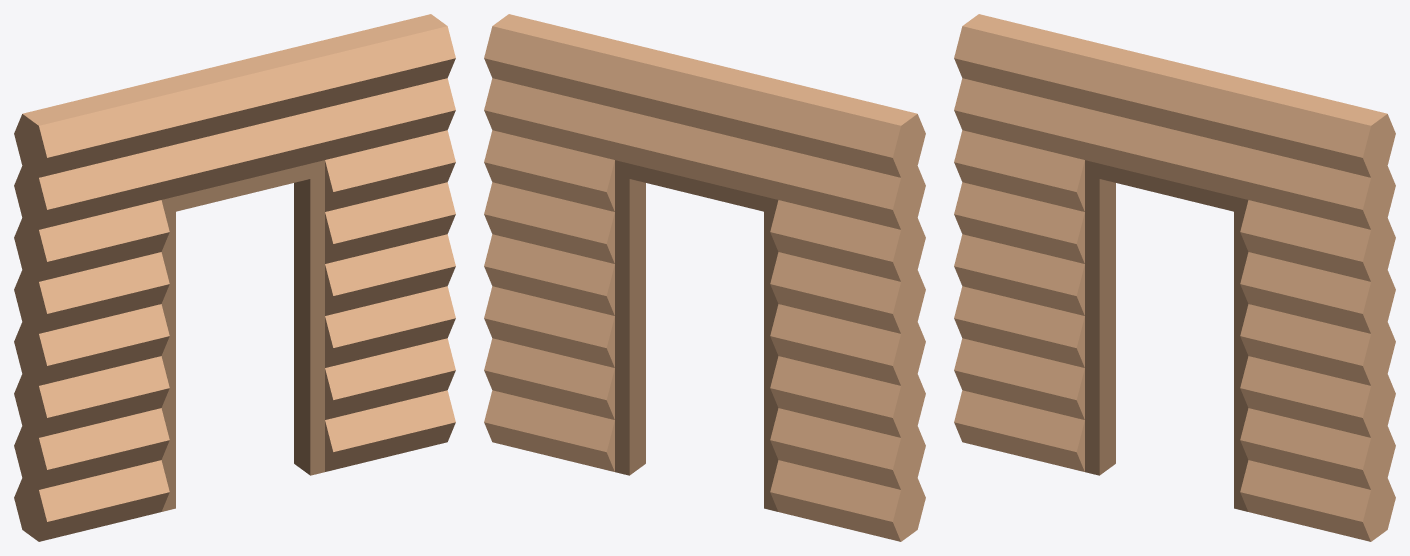
The model's file is cabinDoor.glb.
The picture shows the model from 3 angles, left to right: view 1: azimuth 30°, elevation 25°; view 2: azimuth 150°, elevation 25°; view 3: azimuth 330°, elevation 25°; orthographic projection.
Visible parts, largest first — view 1: cabinDoor; view 2: cabinDoor; view 3: cabinDoor.
Part boxes in pixels (x1,y1,x2,y2): cabinDoor: (14,14,455,541); cabinDoor: (484,14,925,541); cabinDoor: (954,14,1395,541).
Size of the model in its own units: 1 by 0.9727 by 0.1404.
